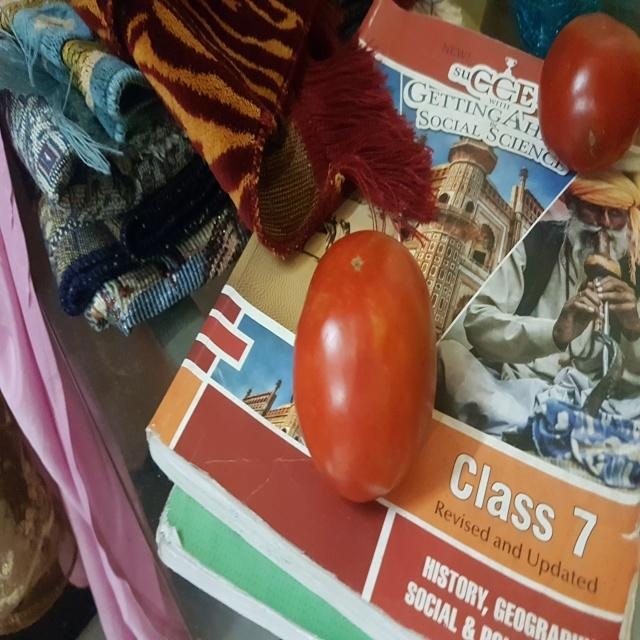tomato: (286, 226, 447, 503), (534, 4, 639, 178)
